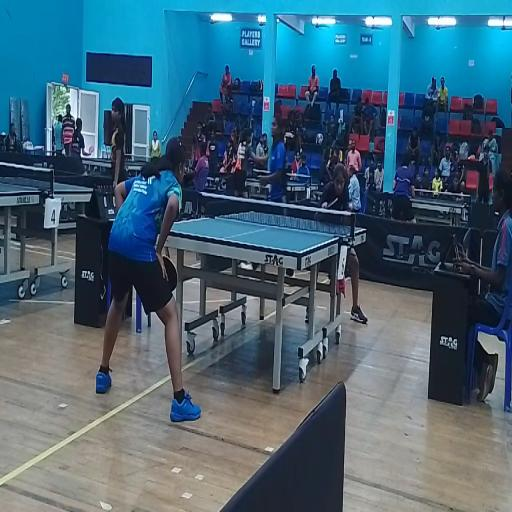ball: (349, 202, 352, 210)
